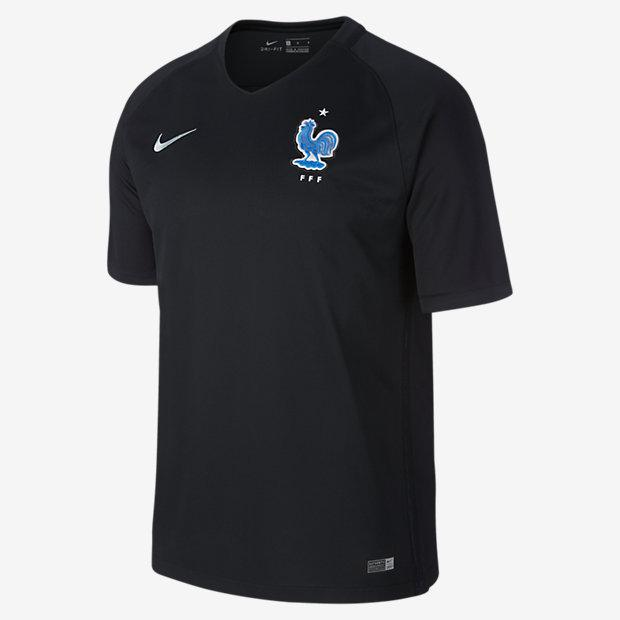teeshirt: (98, 15, 520, 616)
